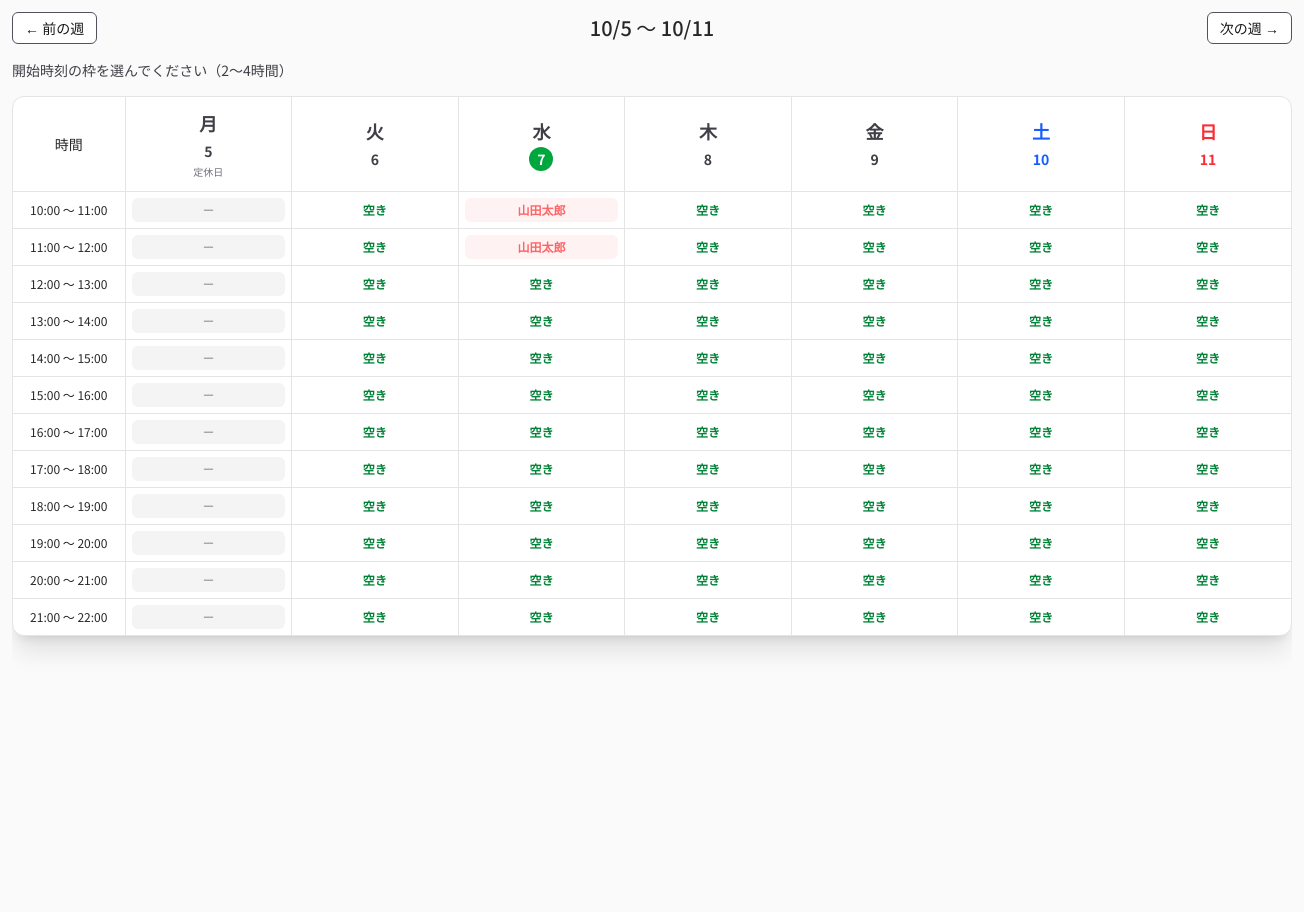
Test: 表示 › 定休日に残った電話予約は、☎ 付きの名前で押せる
The image size is (1304, 912).
Check: the button with aria-label "10月7日（水） 10:00 〜 11:00 山田太郎 さんの予約" is shown, box [465,198,618,222]
Click the button "次の週 →" at (1249, 28), box [1207,12,1292,44]
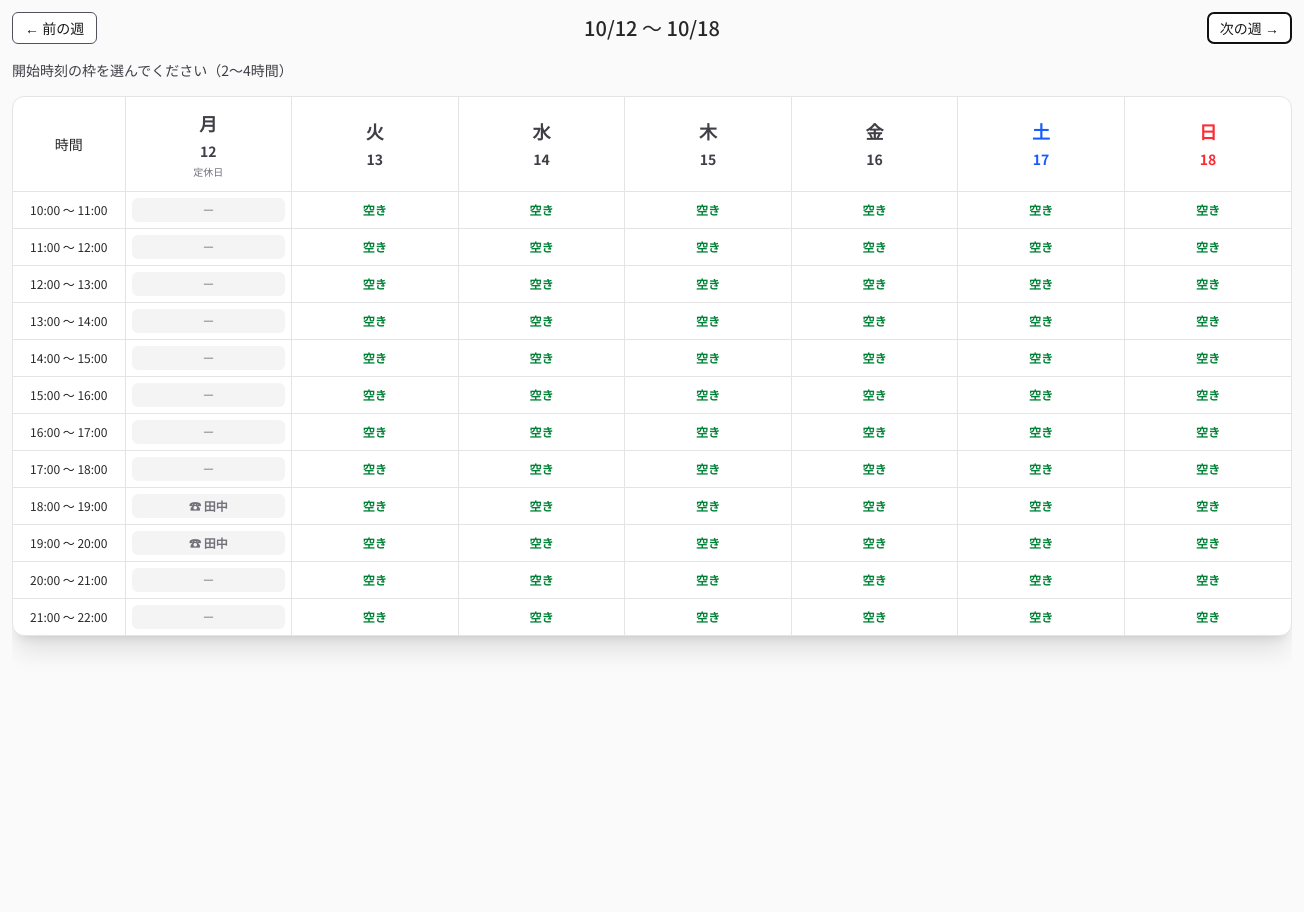
Check: the button named "10月12日（月） 10:00 〜 11:00 受付外" is disabled, box [132,198,285,222]
Check: the button with aria-label "10月12日（月） 18:00 〜 19:00 田中 さんの予約（電話）" reads "☎ 田中", box [132,494,285,518]
Check: the button with aria-label "10月12日（月） 18:00 〜 19:00 田中 さんの予約（電話）" is enabled, box [132,494,285,518]
